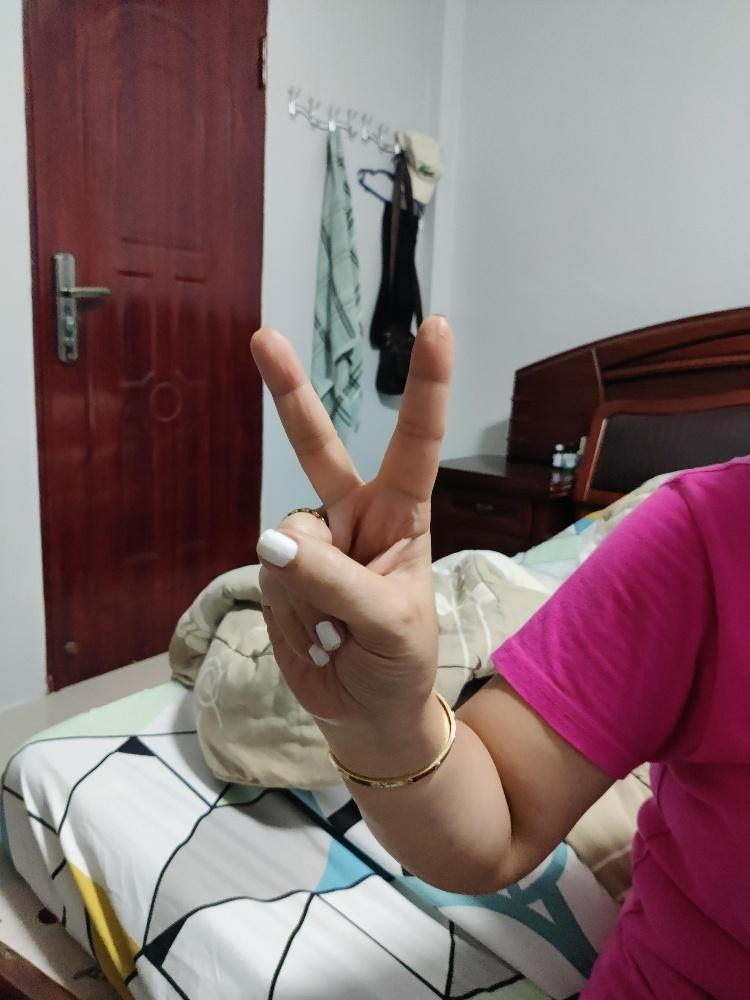v: (246, 310, 454, 726)
